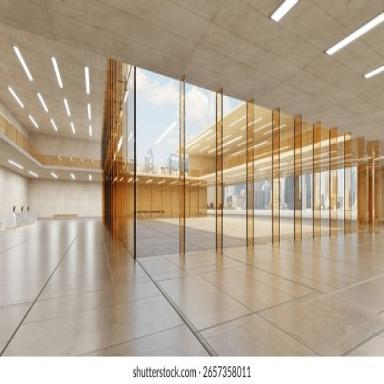glass_panel: (136, 68, 180, 258), (185, 84, 216, 252), (238, 106, 272, 242), (219, 96, 248, 248), (234, 100, 254, 247), (179, 78, 191, 255), (280, 112, 294, 240), (215, 89, 224, 252), (302, 121, 314, 237), (271, 108, 280, 243), (312, 122, 322, 237), (320, 126, 330, 236), (329, 127, 339, 236), (294, 116, 302, 242), (357, 137, 367, 232), (344, 133, 353, 235), (336, 132, 345, 234), (366, 141, 374, 232)
